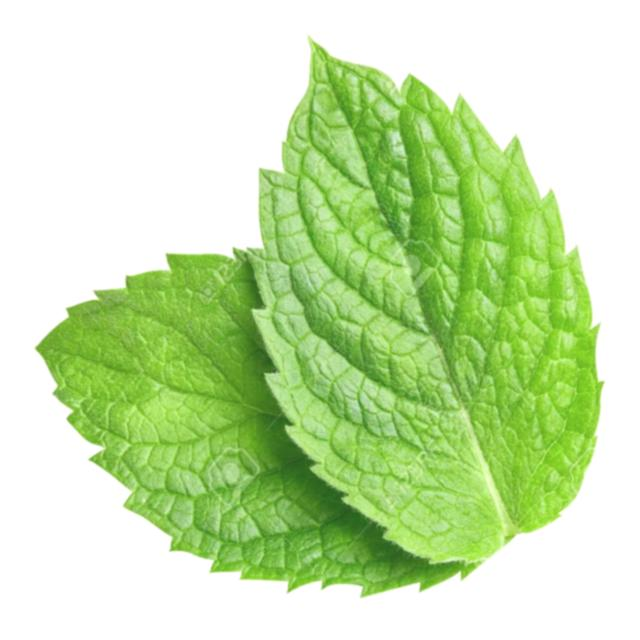Green Mint: (28, 55, 640, 631)
